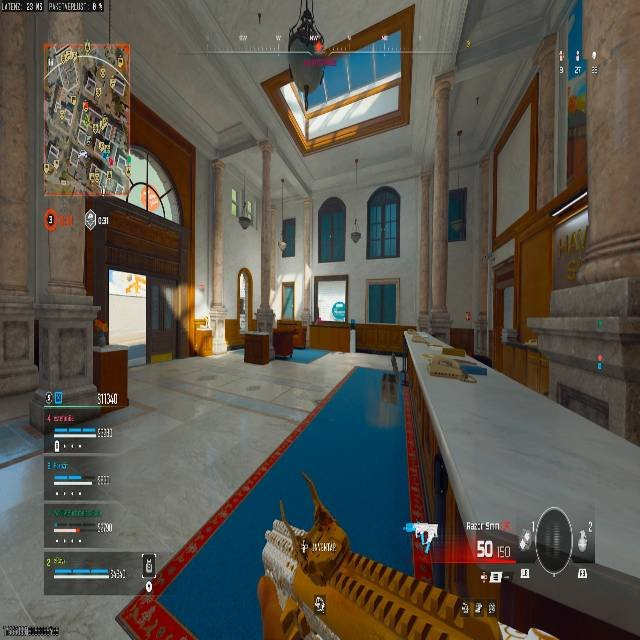player: (286, 9, 328, 110)
